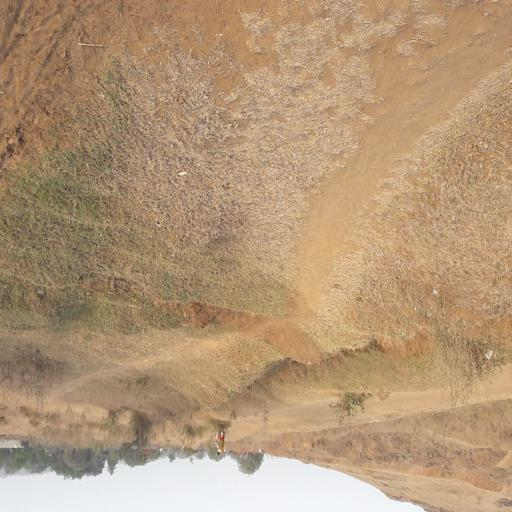vehicle_track: (295, 0, 512, 314)
